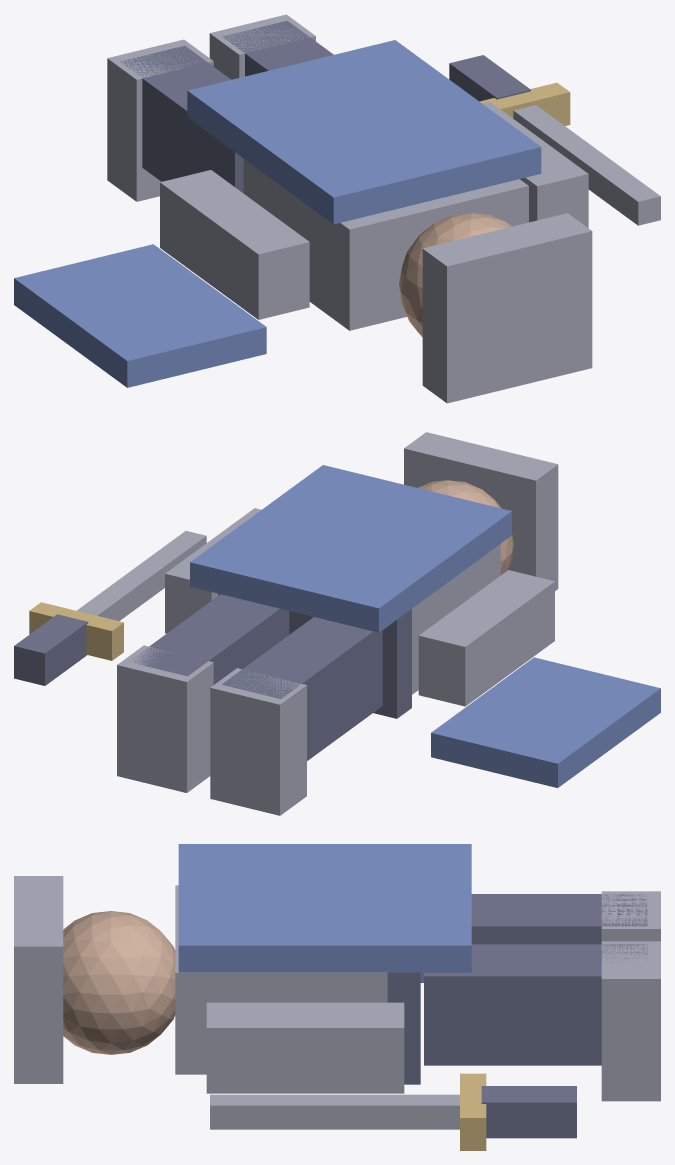
File: exemplo_guerreiro.glb
3 views of the same model, one above another, from view 1: azimuth 30°, elevation 25°; view 2: azimuth 150°, elevation 25°; view 3: azimuth 270°, elevation 25° (orthographic). The views are drawn at different scales.
Parts seen in each view (by area): view 1: Capa, Capacete, Escudo, Armadura_peito, Braco_esq, Perna_esq, Bota_esq, Espada_lamina, Braco_dir, Cabeca, Perna_dir, Bota_dir (+3 smaller); view 2: Capa, Escudo, Braco_esq, Bota_esq, Perna_esq, Bota_dir, Capacete, Perna_dir, Espada_lamina, Espada_cabo, Armadura_peito, Cinto (+3 smaller); view 3: Capa, Perna_dir, Braco_dir, Cabeca, Capacete, Bota_dir, Armadura_peito, Espada_lamina, Perna_esq, Espada_cabo, Bota_esq, Cinto (+1 smaller).
Boxes of the visible parts, x1,y1,x2,y2 form: Capa: (187, 40, 541, 224); Capacete: (422, 213, 592, 403); Escudo: (14, 244, 266, 387); Armadura_peito: (243, 159, 528, 330); Braco_esq: (160, 170, 309, 319); Perna_esq: (120, 45, 231, 181); Bota_esq: (107, 39, 213, 201); Espada_lamina: (513, 105, 660, 225); Braco_dir: (482, 102, 588, 227); Cabeca: (399, 213, 511, 337); Perna_dir: (222, 20, 333, 76); Bota_dir: (209, 14, 315, 79); Capa: (190, 465, 511, 632); Escudo: (431, 657, 660, 787); Braco_esq: (418, 570, 554, 706); Bota_esq: (210, 668, 306, 815); Perna_esq: (222, 617, 382, 760); Bota_dir: (117, 645, 213, 792); Capacete: (404, 432, 558, 590); Perna_dir: (133, 594, 289, 684); Espada_lamina: (77, 531, 206, 621); Espada_cabo: (14, 614, 88, 685); Armadura_peito: (412, 544, 500, 694); Cinto: (218, 593, 411, 718); Capa: (178, 844, 471, 972); Perna_dir: (424, 944, 647, 1065); Braco_dir: (206, 1002, 404, 1093); Cabeca: (63, 911, 175, 1054); Capacete: (14, 876, 63, 1083); Bota_dir: (601, 941, 660, 1101); Armadura_peito: (175, 885, 387, 1074); Espada_lamina: (210, 1094, 459, 1129); Perna_esq: (471, 894, 647, 944); Espada_cabo: (481, 1086, 576, 1138); Bota_esq: (601, 891, 660, 941); Cinto: (387, 972, 420, 1084).
Size of the model in its own units: 1.97 by 0.5845 by 1.97.
